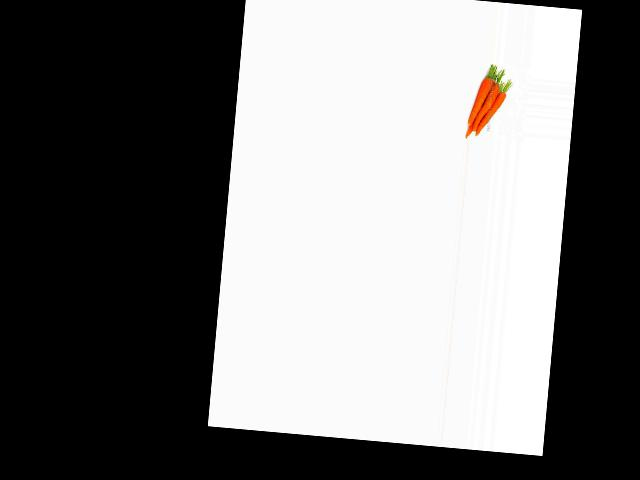carrot: (463, 72, 496, 132)
